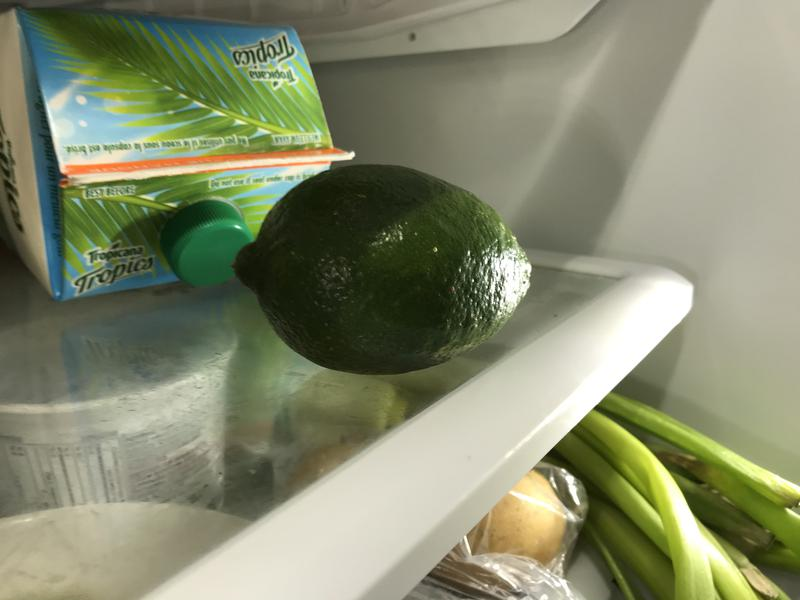lime: (225, 157, 542, 381)
